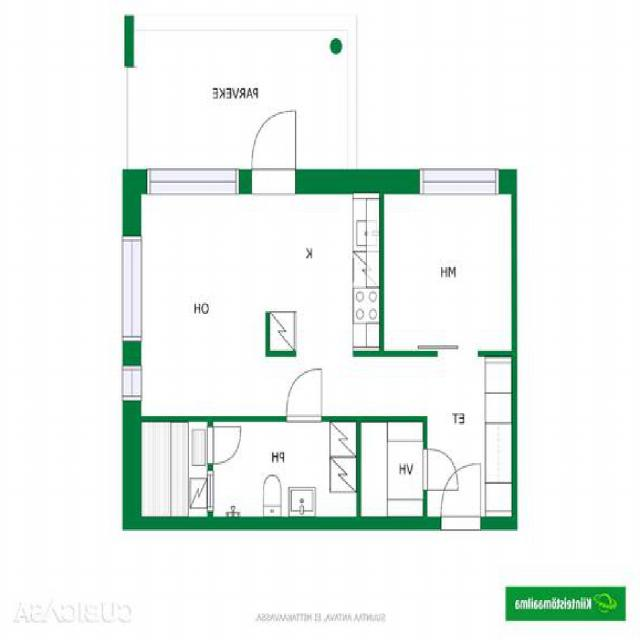door: (252, 111, 295, 195), (442, 465, 481, 530), (287, 369, 322, 424), (422, 450, 459, 491), (208, 428, 242, 465)
